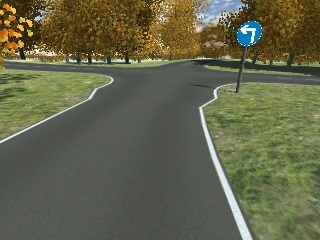TLeft: (236, 20, 263, 46)
